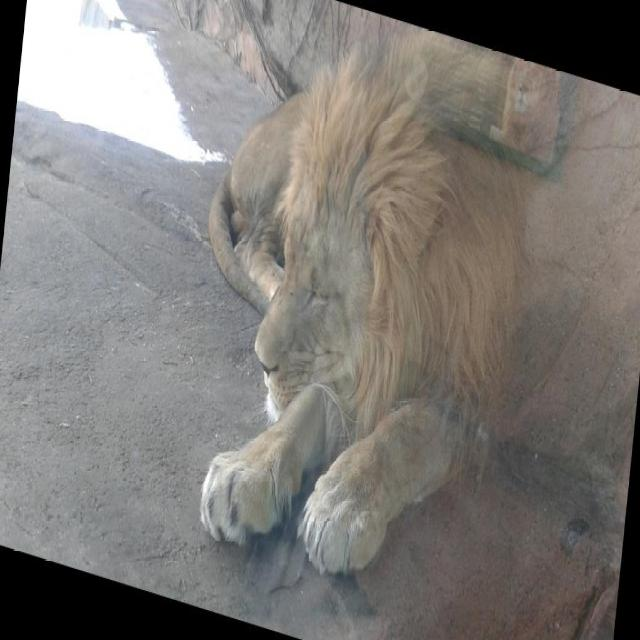Lion: (174, 0, 548, 630)
